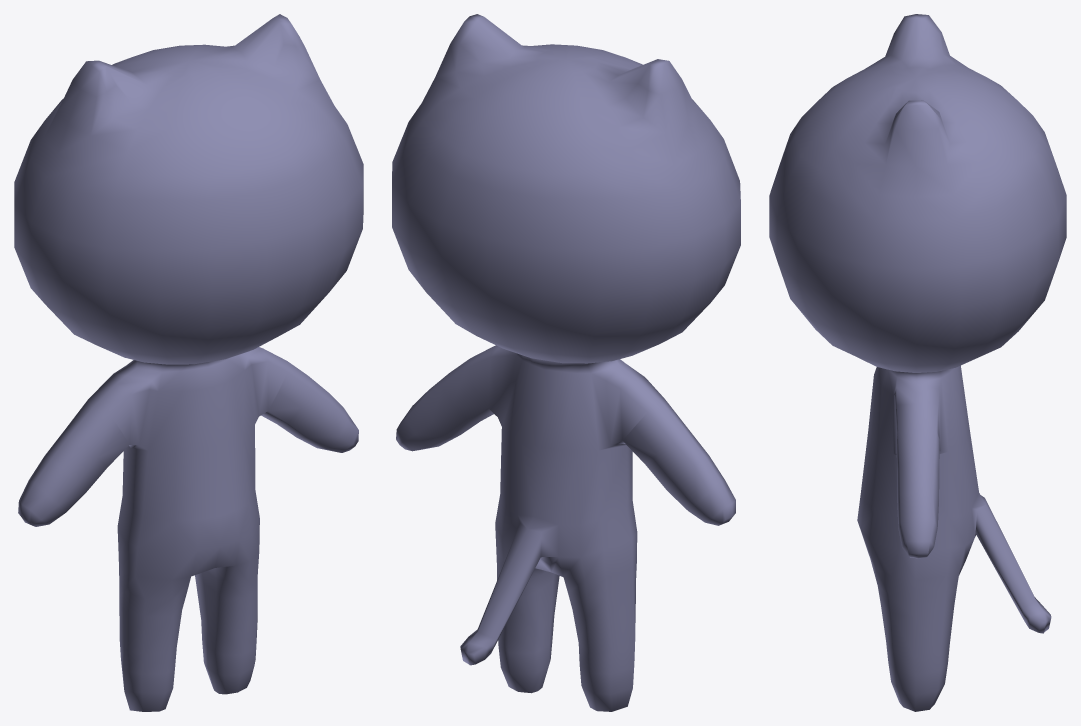
File: CatBase.fbx
The picture shows the model from 3 angles, left to right: view 1: azimuth 30°, elevation 25°; view 2: azimuth 150°, elevation 25°; view 3: azimuth 270°, elevation 25°; orthographic projection. The views are drawn at different scales.
Visible parts, largest first — view 1: Cat_base1; view 2: Cat_base1; view 3: Cat_base1.
Part boxes in pixels (x1=…): Cat_base1: x1=14, y1=14, x2=363, y2=711; Cat_base1: x1=392, y1=14, x2=740, y2=711; Cat_base1: x1=769, y1=14, x2=1066, y2=711.
Bounding box in the file's own units: 0.6366 × 1.2 × 0.5128.
